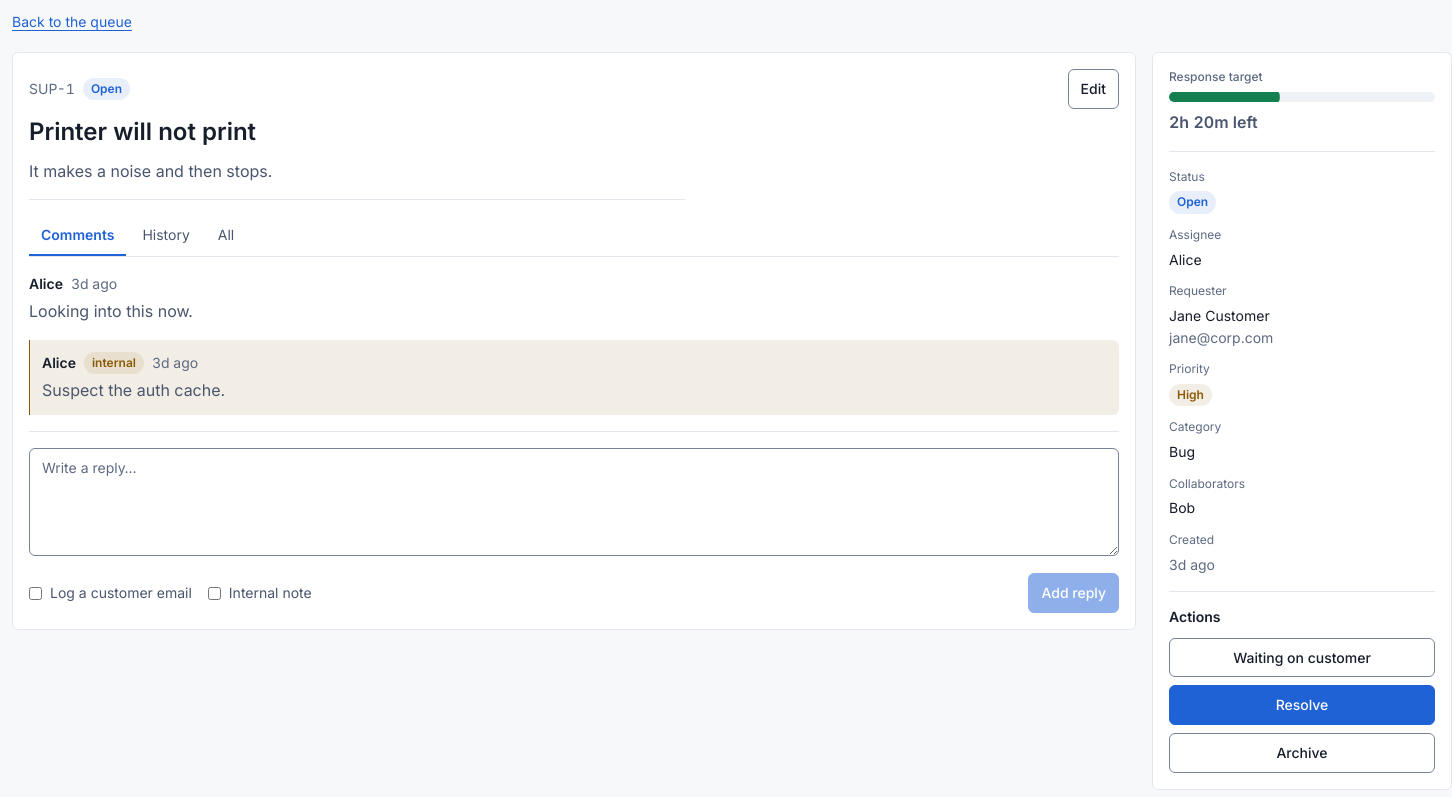
Test case: TicketDetailPage › clears the reply box on success but keeps what was typed if the post fails
The image size is (1452, 797).
In the text box labelled "reply": (574, 502) [29,448,1119,556], type "A reply worth not losing"
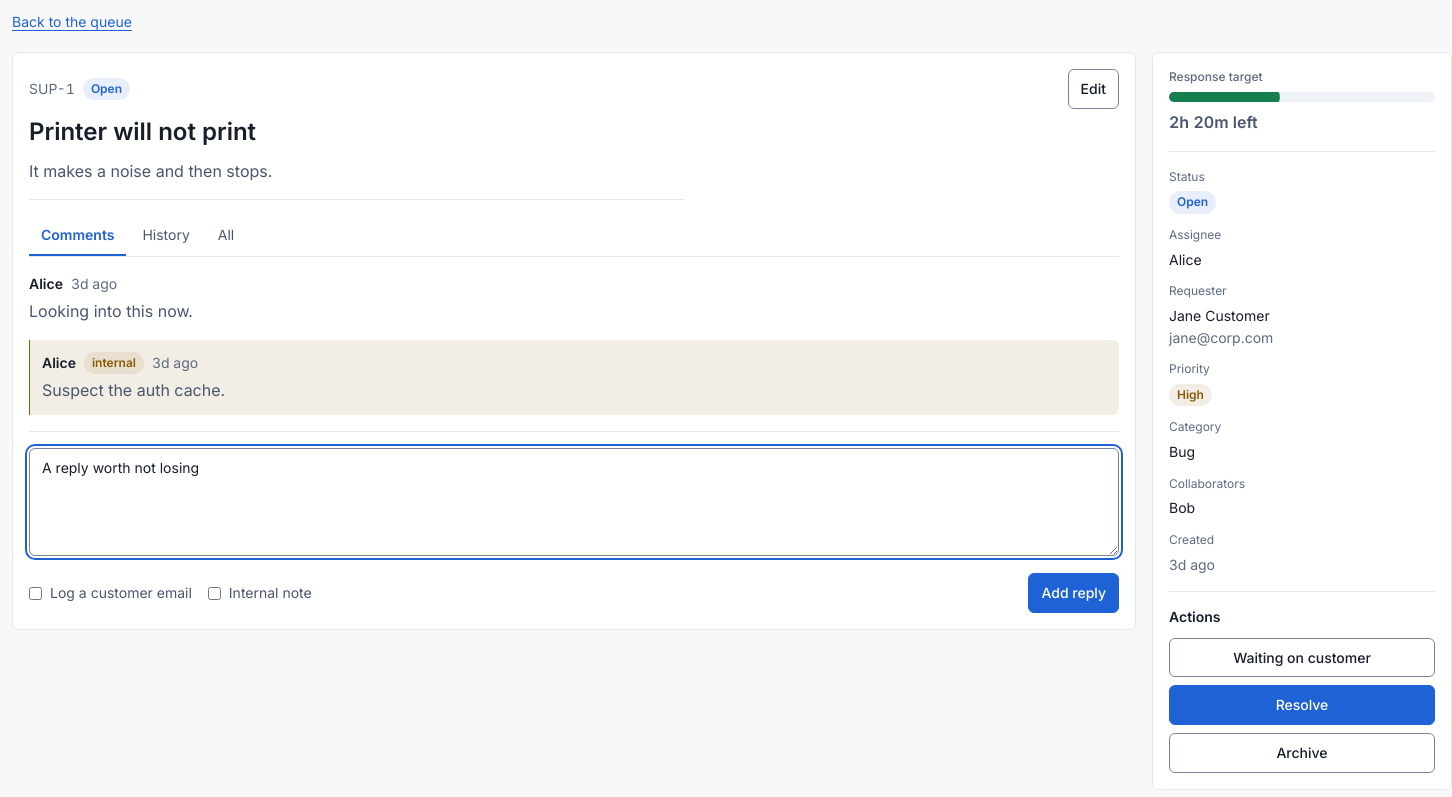
Click the button "Add reply": (1074, 593) [1028,573,1119,613]
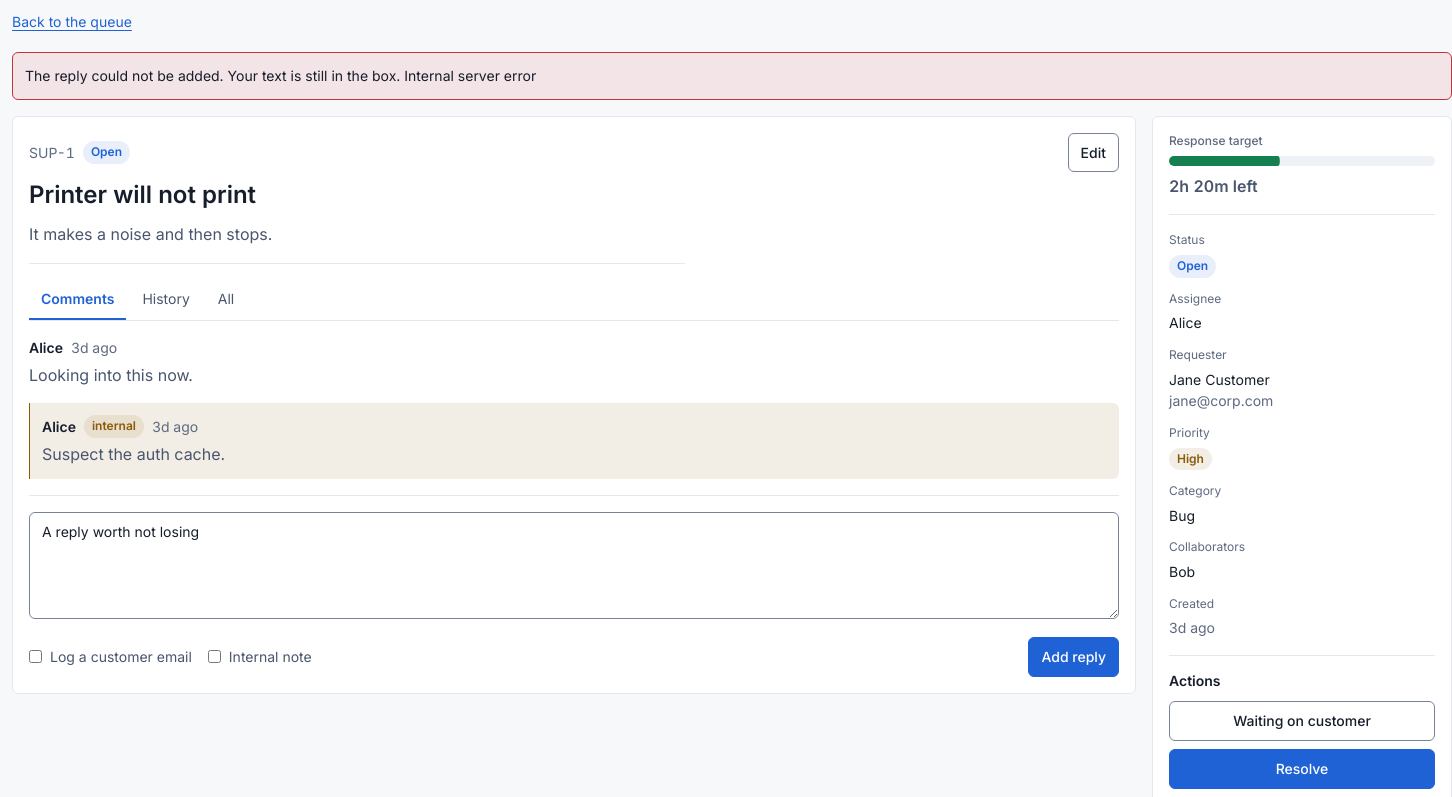
Expected: the text "Internal server error" is shown, [25,67,536,84]
